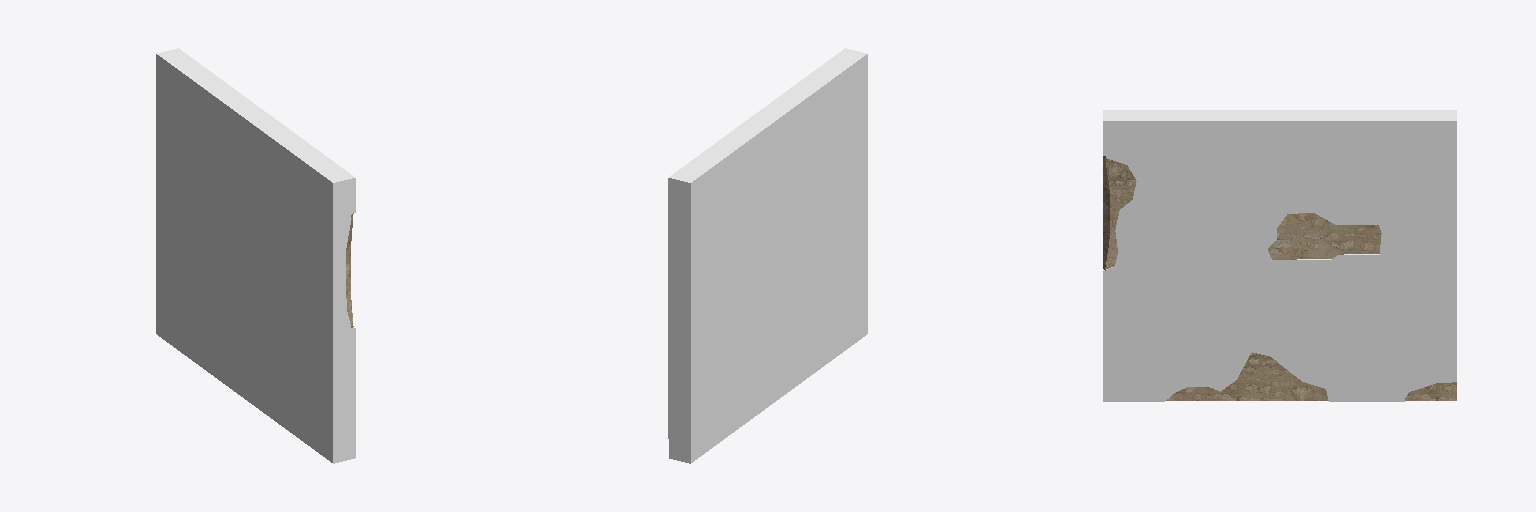
3 views of the same model, side by side, from view 1: azimuth 30°, elevation 25°; view 2: azimuth 150°, elevation 25°; view 3: azimuth 270°, elevation 25° (orthographic).
Parts seen in each view (by area): view 1: Box02; view 2: Box02; view 3: Box02, crack1aaa.
Boxes of the visible parts, x1=… form: Box02: x1=156, y1=48, x2=355, y2=463; Box02: x1=668, y1=48, x2=867, y2=463; Box02: x1=1103, y1=110, x2=1456, y2=401; crack1aaa: x1=1103, y1=156, x2=1456, y2=400.
Bounding box in the file's own units: 0.2933 × 3.5 × 4.
2 materials, 1 textured.